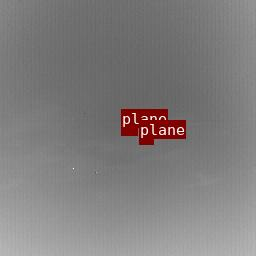plane: (121, 128, 137, 135), (139, 139, 153, 144)
